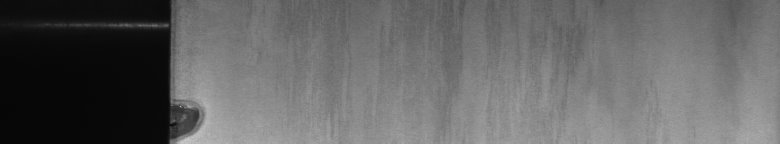hb: (180, 96, 211, 136)
